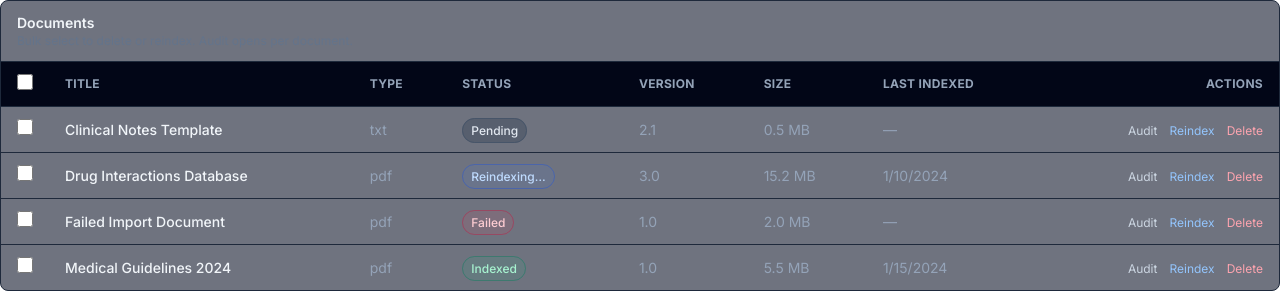
Test: DocumentTable › selection › deselects all when select all clicked again
The width and height of the screenshot is (1280, 308).
What coordinates should you click on to do the following:
click the checkbox named "Select all documents"
I would click on:
 (25, 82)
Its box is [17,74,33,90].
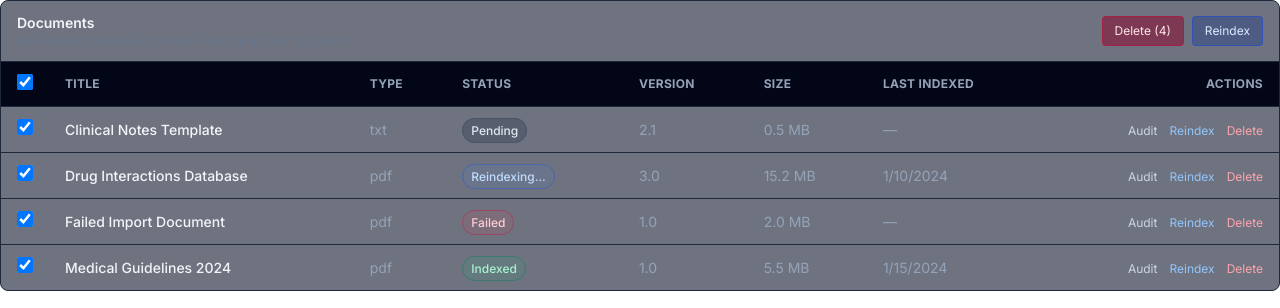
What coordinates should you click on to do the following:
click the checkbox named "Select all documents"
I would click on:
 (25, 82)
Its box is [17,74,33,90].
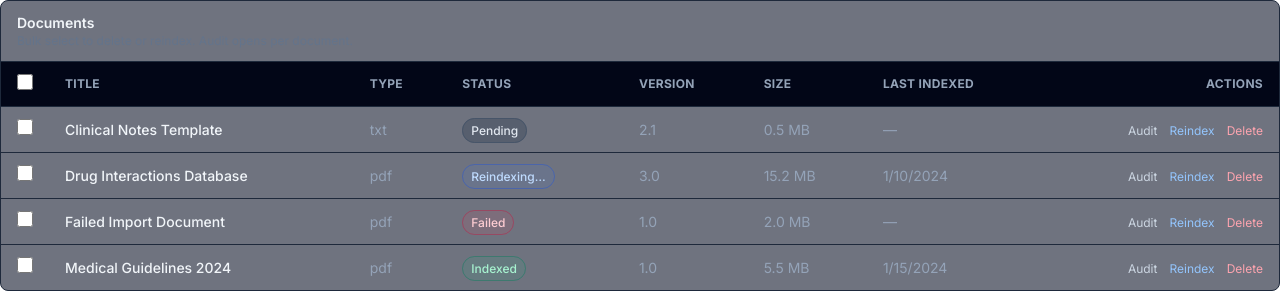
Result: the checkbox named "Select all documents" is not checked at [17,74,33,90]
Result: the checkbox named "Select Clinical Notes Template" is not checked at [17,119,33,135]
Result: the checkbox named "Select Drug Interactions Database" is not checked at [17,165,33,181]
